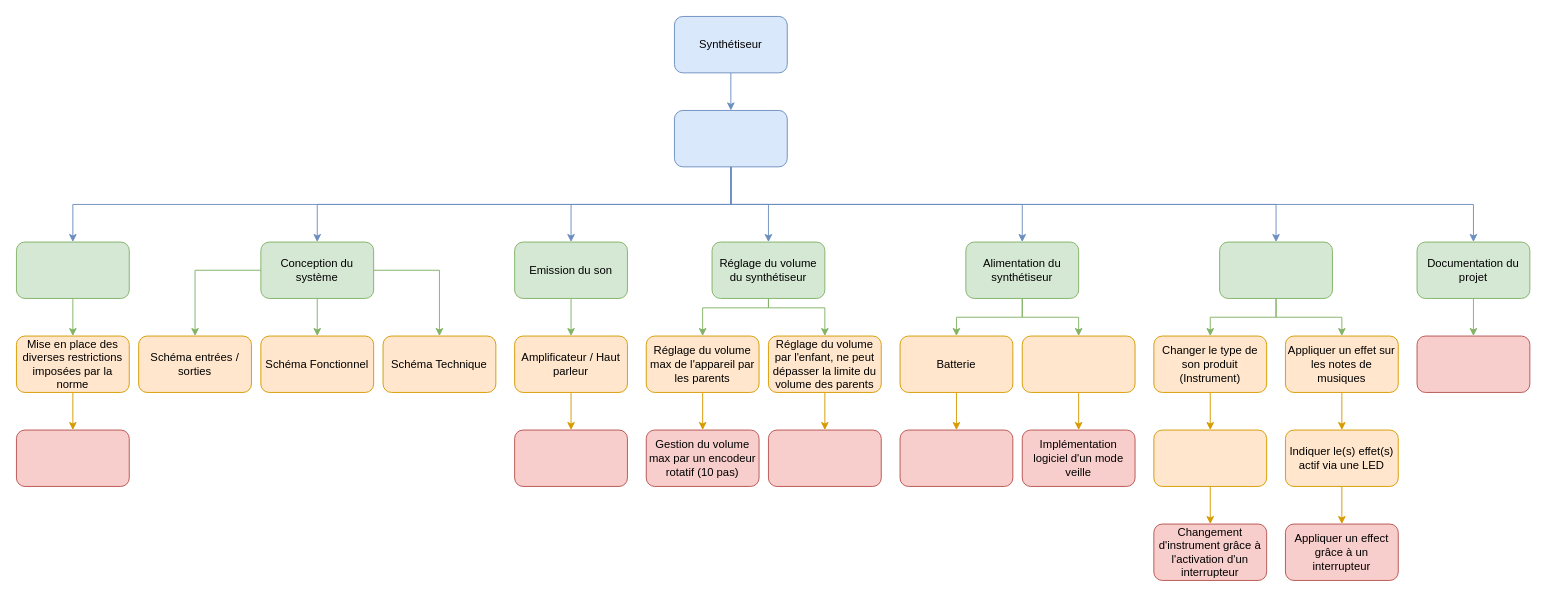
Some shapes in this 1546 by 597 pixel diagram are drawn without their labels. Here are the shapes that lost their labels. From the top down, the box of each, then its label:
(674, 110, 787, 167): Jouer des notes de musiques
(16, 241, 129, 298): Respect des normes pour enfants (EN71)
(1219, 241, 1332, 298): Variation du son
(1021, 335, 1135, 392): Gestion d'un mode veille pour le synthétiseur
(1416, 335, 1530, 392): Rédaction d'un guide utilisateur pour le synthétiseur
(16, 429, 129, 486): Etude de la norme jouet pour enfants
(514, 429, 627, 486): Gérer l'appui des touches pour générer les sons
(768, 429, 881, 486): Gestion du volume de l'appareil par un encodeur rotatif
(899, 429, 1013, 486): Gestion d'un bouton d'alimentation ON/ OFF
(1153, 429, 1267, 486): Indicateur de l'instrument actif + changement facile
